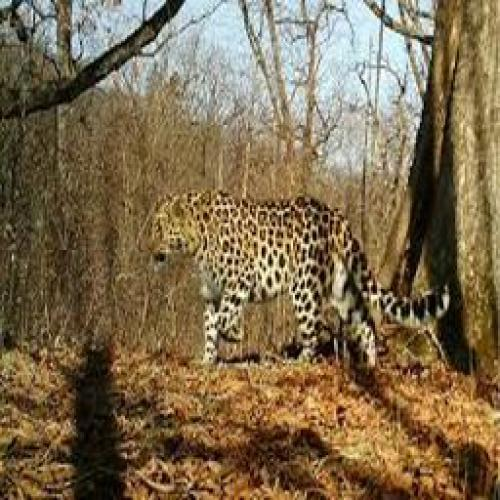amur_leopard-endangered: (142, 185, 448, 371)
